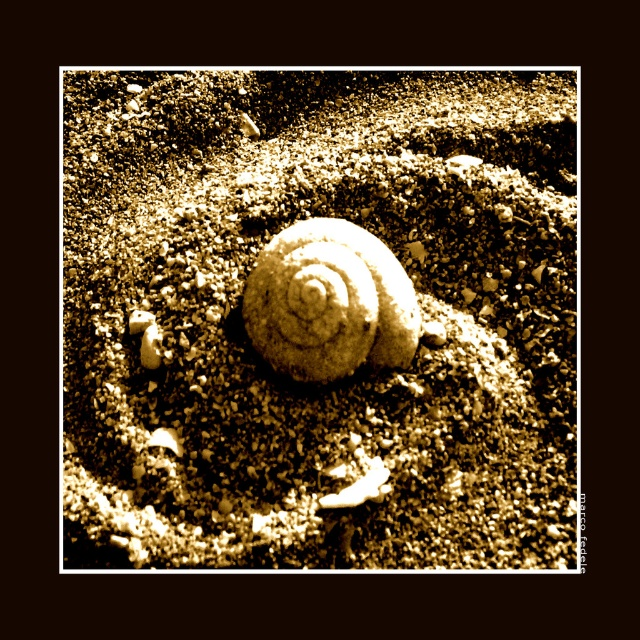Snail: (232, 215, 418, 392)
